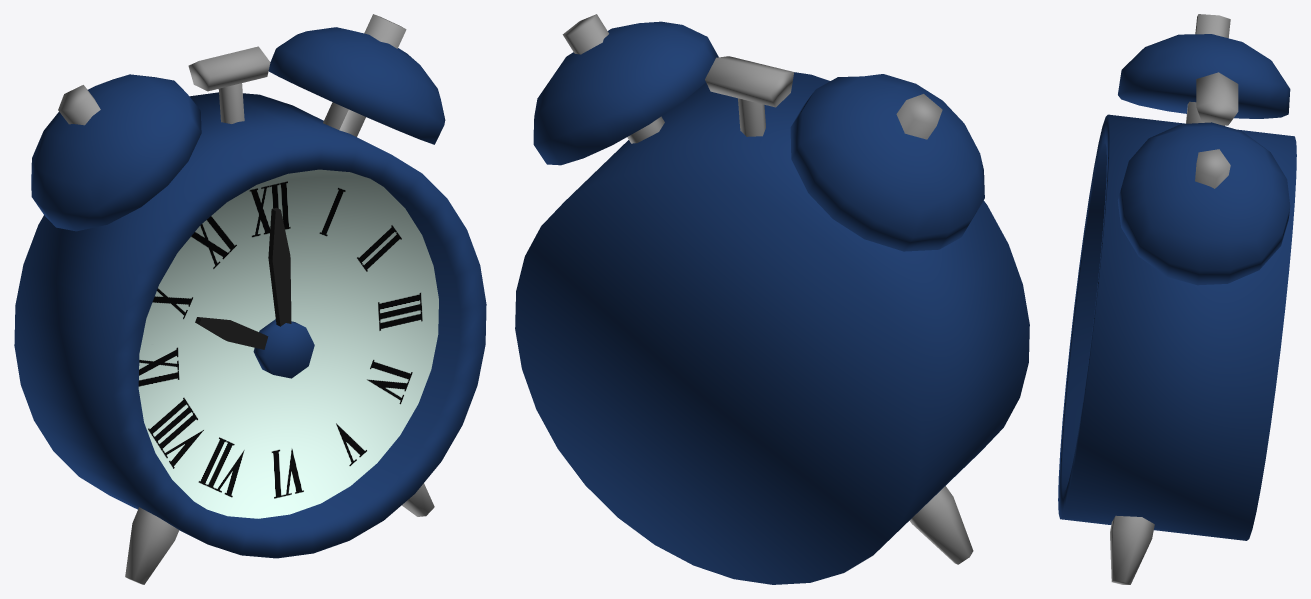
The model's file is Alarm_Bedroom_V1.fbx.
3 views of the same model, side by side, from view 1: azimuth 30°, elevation 25°; view 2: azimuth 150°, elevation 25°; view 3: azimuth 270°, elevation 25° (orthographic). The views are drawn at different scales.
Visible parts, largest first — view 1: Cylinder, Roundcube, legs, Cylinder.003, Cylinder.002, Cylinder.005, Cube.001, Cube, Cylinder.004; view 2: Cylinder, Roundcube, Cylinder.005, Cylinder.003, legs, Cylinder.004; view 3: Cylinder, Roundcube, legs, Cylinder.003, Cylinder.005.
Boxes of the visible parts, bbox=[...] form: Cylinder: bbox=[14, 92, 486, 558]; Roundcube: bbox=[31, 27, 445, 231]; legs: bbox=[125, 483, 434, 584]; Cylinder.003: bbox=[58, 14, 406, 136]; Cylinder.002: bbox=[253, 319, 314, 378]; Cylinder.005: bbox=[188, 46, 270, 91]; Cube.001: bbox=[268, 207, 291, 326]; Cube: bbox=[195, 317, 268, 349]; Cylinder.004: bbox=[218, 83, 244, 123]; Cylinder: bbox=[515, 72, 1029, 584]; Roundcube: bbox=[533, 21, 984, 251]; Cylinder.005: bbox=[705, 56, 794, 107]; Cylinder.003: bbox=[562, 14, 942, 143]; legs: bbox=[909, 486, 973, 564]; Cylinder.004: bbox=[738, 98, 765, 136]; Cylinder: bbox=[1058, 114, 1296, 540]; Roundcube: bbox=[1117, 34, 1290, 285]; legs: bbox=[1110, 515, 1154, 584]; Cylinder.003: bbox=[1186, 14, 1230, 188]; Cylinder.005: bbox=[1196, 72, 1238, 125].
Bounding box in the file's own units: 209 × 238 × 117.
